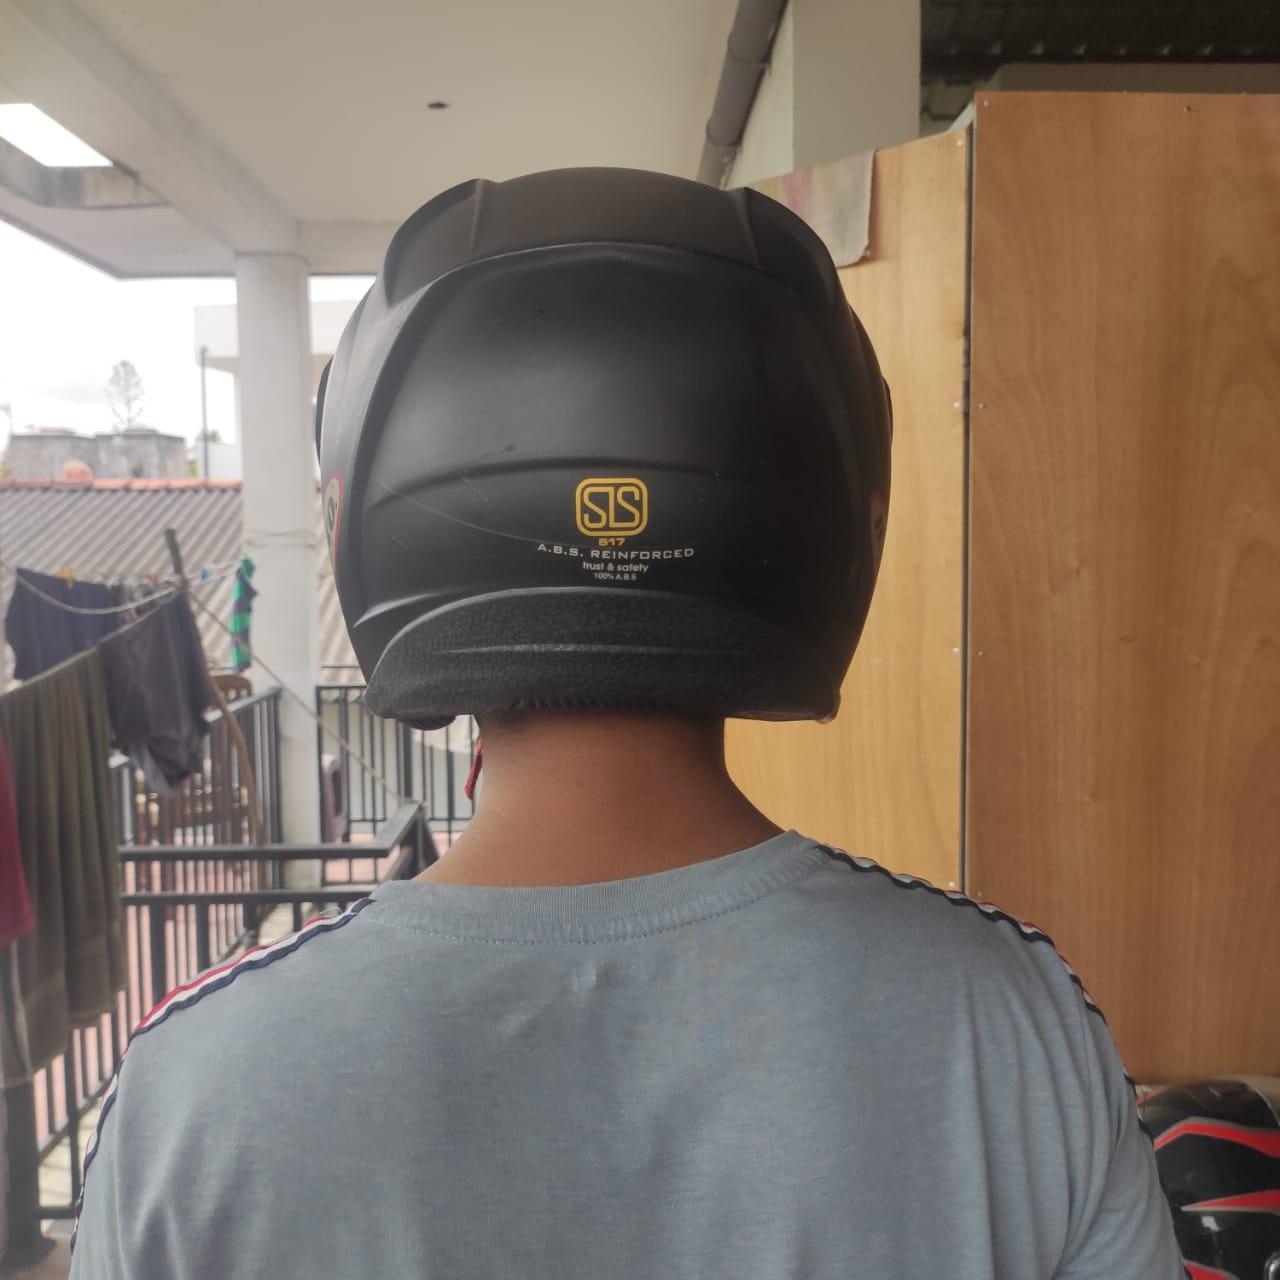helmet: (314, 159, 897, 736)
